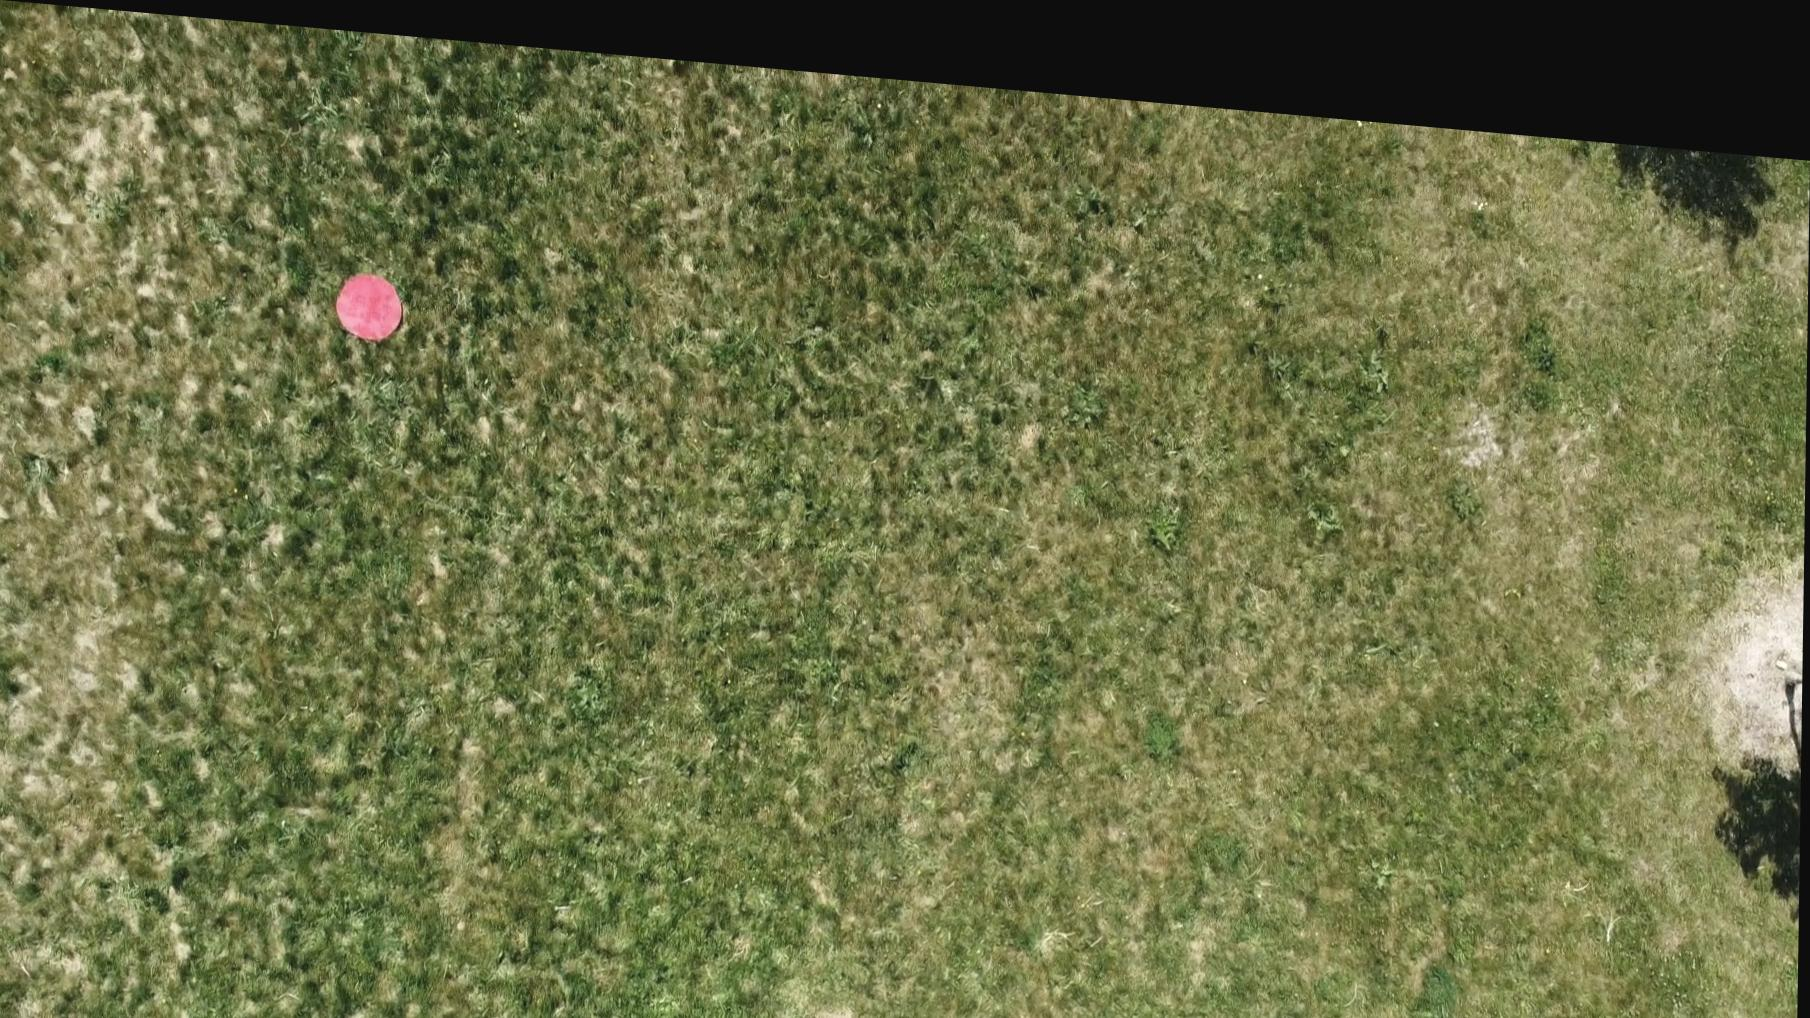Red: (333, 262, 407, 338)
